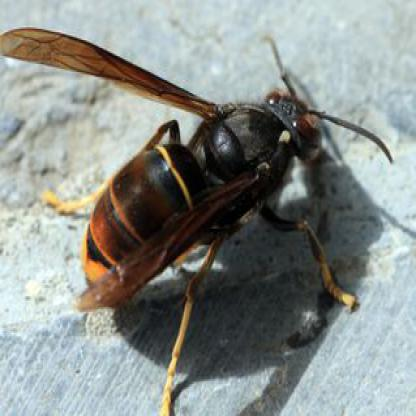Asian Hornet: (0, 27, 395, 414)
